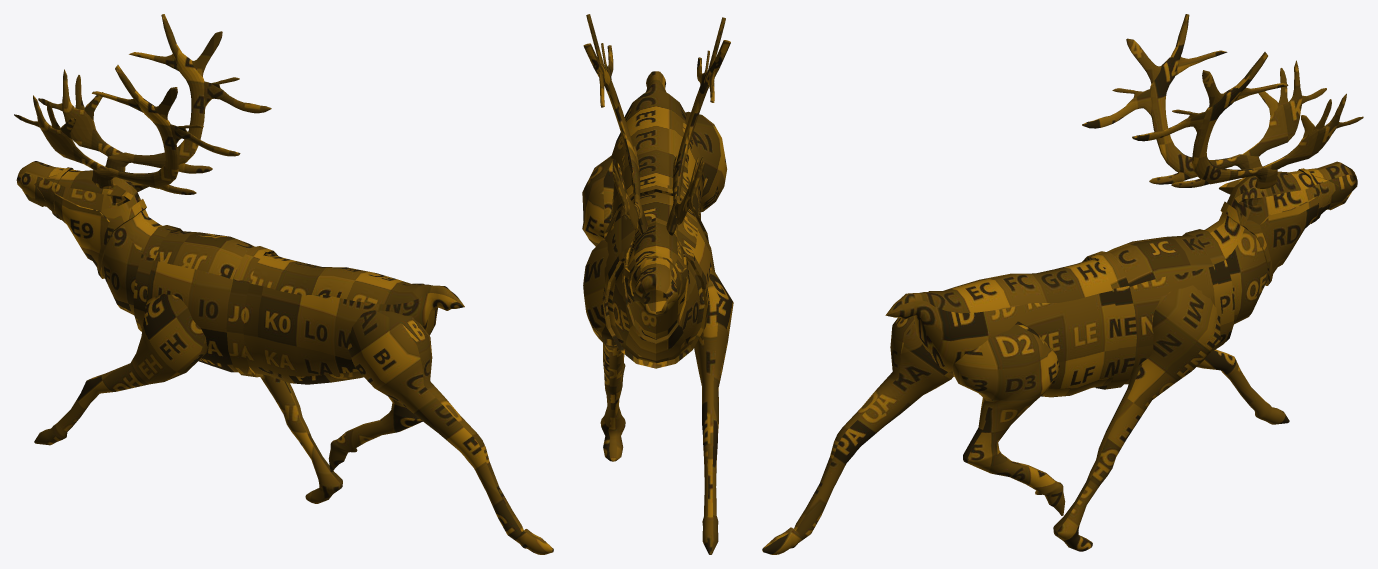
Rendered from Reindeer.fbx.
3 views of the same model, side by side, from view 1: azimuth 30°, elevation 25°; view 2: azimuth 150°, elevation 25°; view 3: azimuth 270°, elevation 25° (orthographic). The views are drawn at different scales.
Visible parts, largest first — view 1: Body3, R_Back_Leg, R_Front_Leg, L_Antler, R_Antler, L_Front_Leg, L_Back_Leg; view 2: Body3, R_Front_Leg, L_Front_Leg, L_Antler, R_Antler, L_Back_Leg, R_Back_Leg; view 3: Body3, L_Back_Leg, L_Front_Leg, R_Back_Leg, R_Antler, L_Antler, R_Front_Leg.
Part boxes in pixels (x1=…): Body3: x1=16, y1=161, x2=464, y2=384; R_Back_Leg: x1=348, y1=310, x2=553, y2=554; R_Front_Leg: x1=34, y1=294, x2=207, y2=445; L_Antler: x1=38, y1=14, x2=271, y2=173; R_Antler: x1=14, y1=65, x2=240, y2=194; L_Front_Leg: x1=260, y1=375, x2=342, y2=503; L_Back_Leg: x1=328, y1=396, x2=422, y2=472; Body3: x1=602, y1=71, x2=714, y2=368; R_Front_Leg: x1=694, y1=266, x2=733, y2=554; L_Front_Leg: x1=583, y1=239, x2=625, y2=461; L_Antler: x1=583, y1=14, x2=647, y2=234; R_Antler: x1=666, y1=17, x2=730, y2=235; L_Back_Leg: x1=582, y1=155, x2=625, y2=397; R_Back_Leg: x1=685, y1=111, x2=727, y2=212; Body3: x1=885, y1=161, x2=1357, y2=397; L_Back_Leg: x1=952, y1=321, x2=1065, y2=515; L_Front_Leg: x1=1053, y1=285, x2=1220, y2=551; R_Back_Leg: x1=762, y1=316, x2=953, y2=554; R_Antler: x1=1082, y1=14, x2=1326, y2=184; L_Antler: x1=1132, y1=52, x2=1363, y2=188; R_Front_Leg: x1=1197, y1=349, x2=1289, y2=424.
Size of the model in its own units: 2.04 by 3.14 by 3.69.
Materials: 1 (1 with a texture image).
